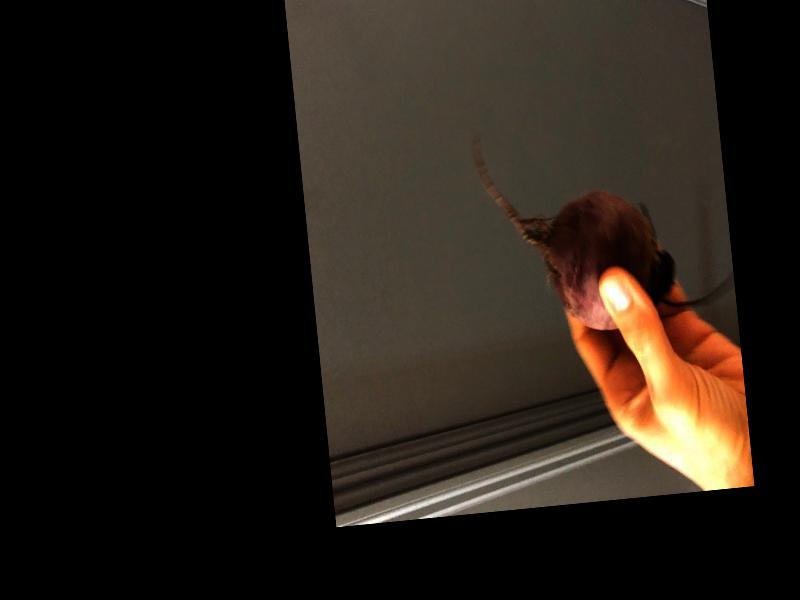Beet: (471, 108, 738, 341)
